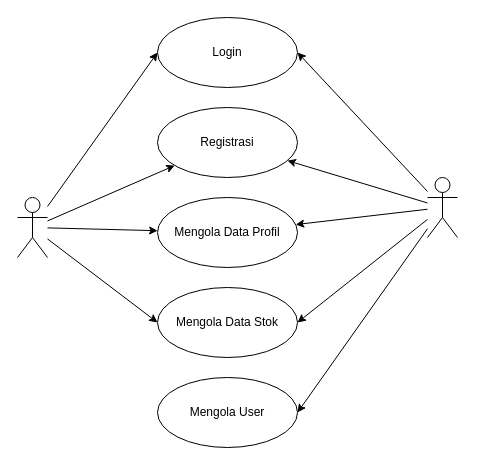
The diagram is 490 pixels wide and 465 high, and some of its shapes have lost their labels. The shapes that lost their labels are listed below. From the top down, each one's centre as x and y in pixels, then its label:
At (32,227): "User".
At (442,207): "Back Office".
